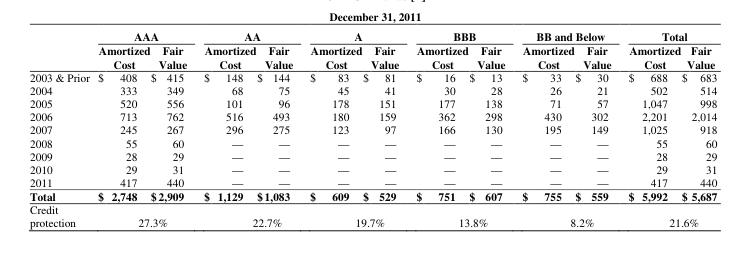table: (28, 28, 716, 229)
table column: (28, 28, 93, 229), (194, 28, 253, 229), (300, 28, 358, 229), (513, 28, 571, 229), (406, 28, 462, 229), (619, 28, 674, 229), (143, 28, 194, 229), (462, 28, 513, 229), (93, 28, 143, 229), (358, 28, 406, 229), (571, 28, 619, 229), (253, 28, 300, 229), (674, 28, 716, 229)
table column header: (28, 28, 716, 70)
table row: (28, 43, 716, 70), (28, 202, 716, 229), (28, 28, 716, 43), (28, 174, 716, 188), (28, 188, 716, 202), (28, 70, 716, 83), (28, 83, 716, 96), (28, 96, 716, 109), (28, 109, 716, 122), (28, 122, 716, 135), (28, 135, 716, 148), (28, 148, 716, 161), (28, 161, 716, 174)
table spanning cell: (406, 28, 513, 43), (194, 28, 300, 43), (300, 28, 406, 43), (513, 28, 619, 43), (93, 28, 194, 43), (619, 28, 716, 43)
